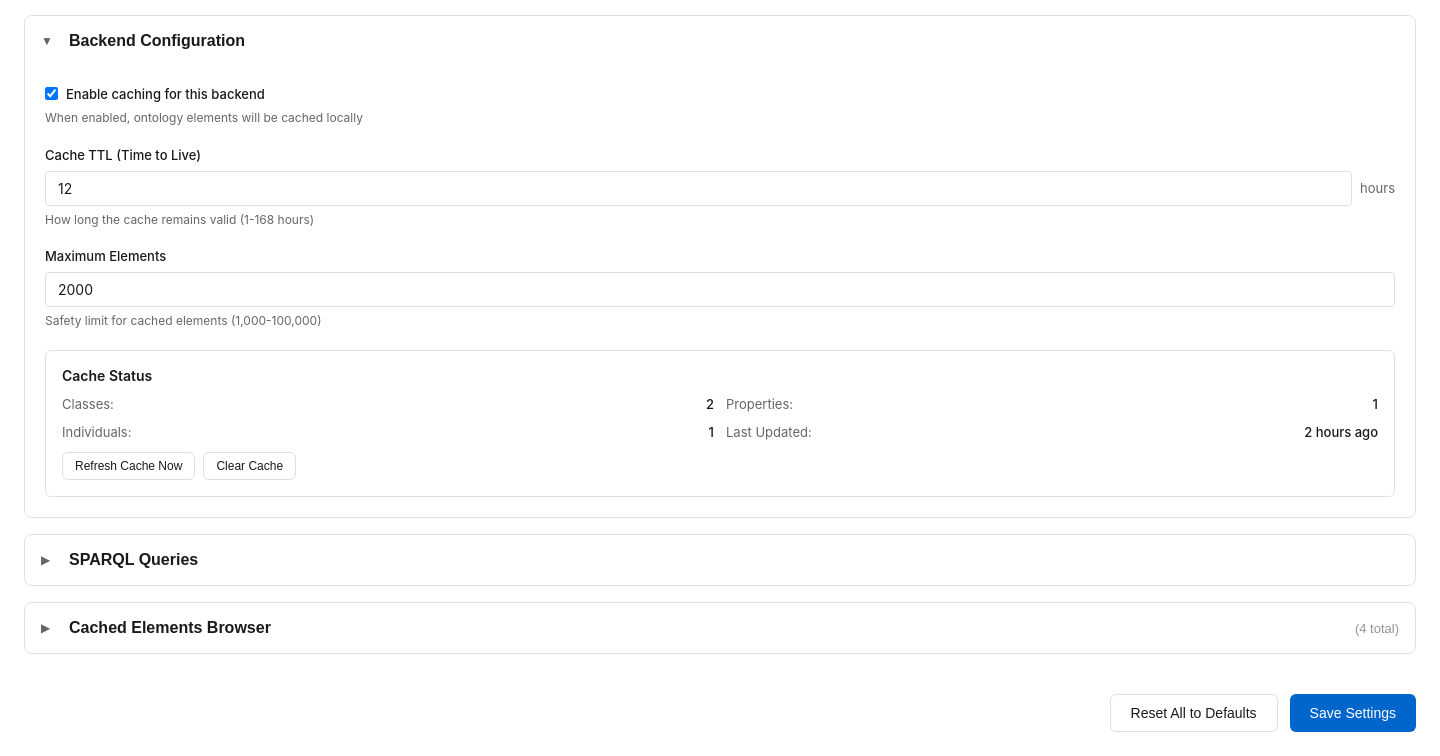
Test: CacheSettingsView - element browser › shows empty list when search throws
(page scrolled)
Click the button with class "section-header" that starts with "Cached Elements Browser" at (170, 628), box x1=25 y1=603 x2=1415 y2=653
(page scrolled)
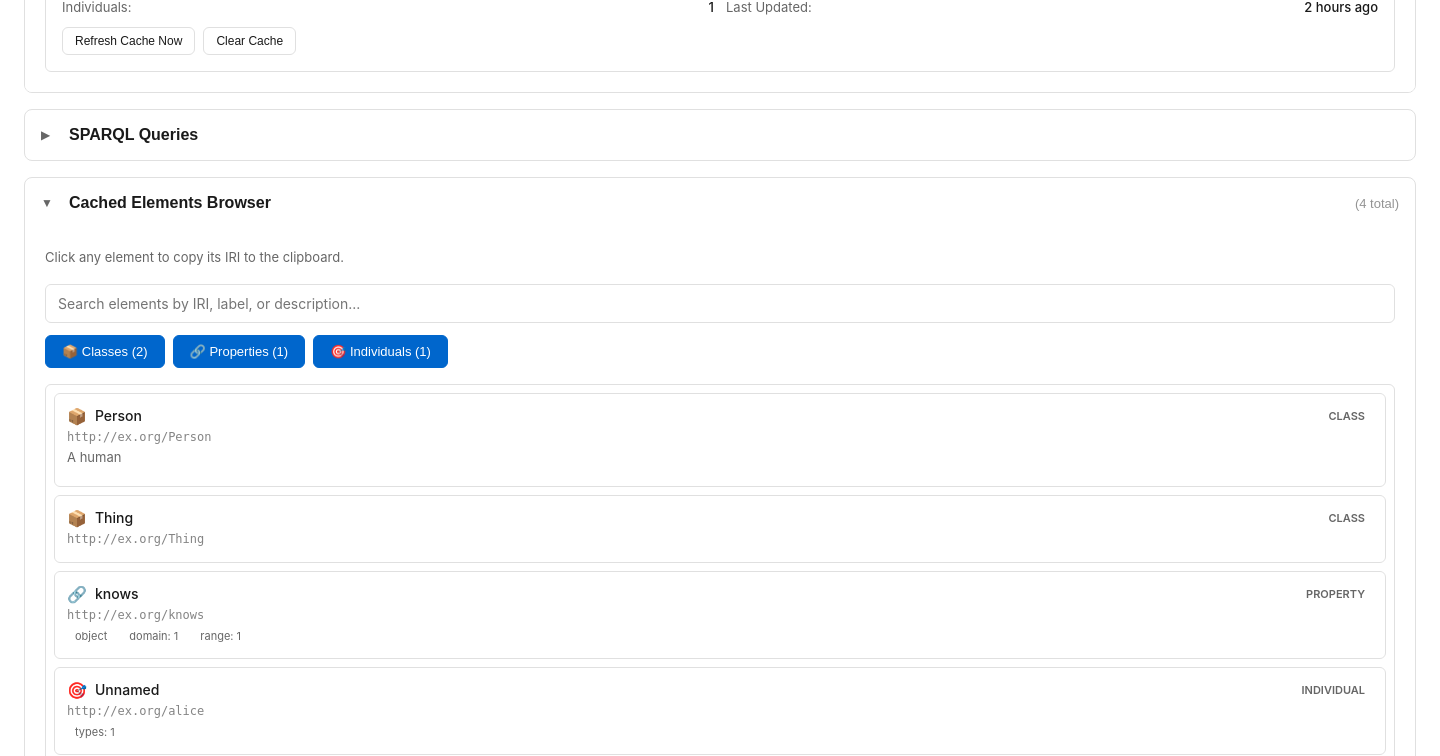
Click the button with class "filter-btn" showing "📦 Classes (2)" at (105, 351), box x1=45 y1=335 x2=165 y2=368
(page scrolled)
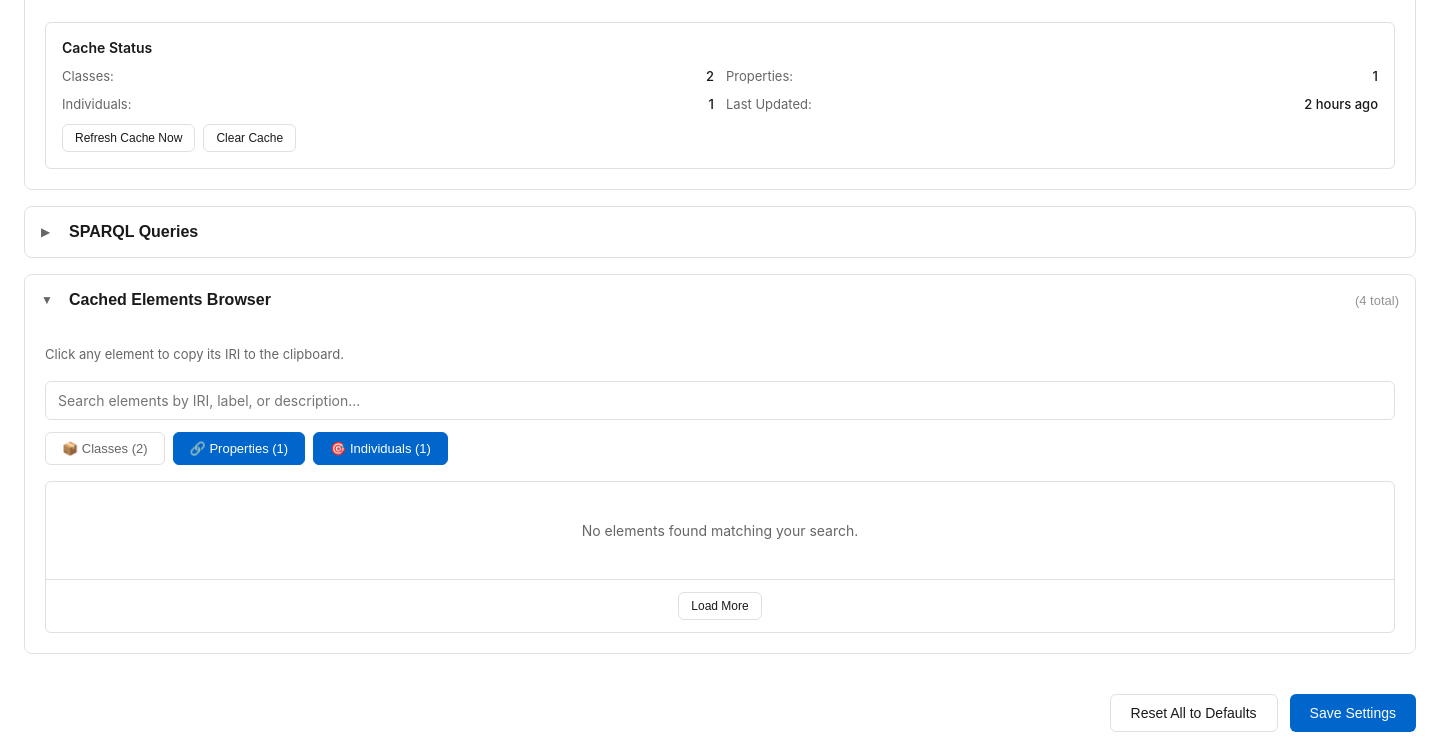
Check: the text "No elements found matching your search." is shown, box x1=582 y1=522 x2=858 y2=539
